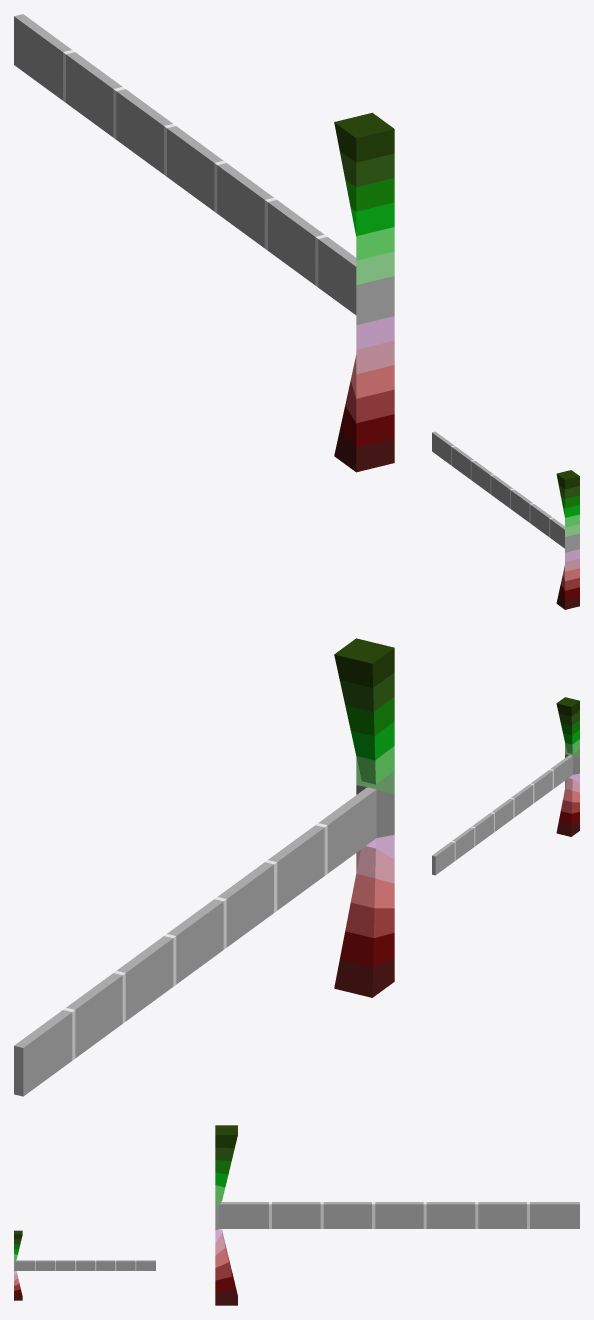
The model's file is mood chart.fbx.
3 views of the same model, one above another, from view 1: azimuth 30°, elevation 25°; view 2: azimuth 150°, elevation 25°; view 3: azimuth 270°, elevation 25° (orthographic). The views are drawn at different scales.
Parts seen in each view (by area): view 1: Cube; view 2: Cube; view 3: Cube.
Part boxes in pixels (box(x1,y1,x2,y2)): Cube: box(14, 14, 579, 609); Cube: box(14, 638, 579, 1096); Cube: box(14, 1125, 579, 1305).
Size of the model in its own units: 29.57 by 246 by 740.
